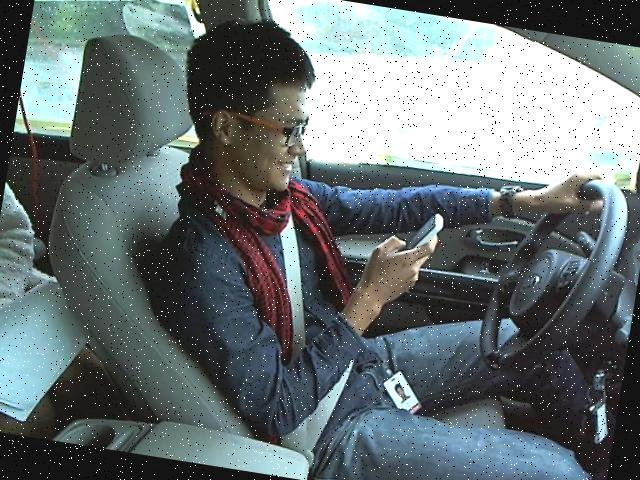c1 - Texting: (119, 3, 639, 479)
